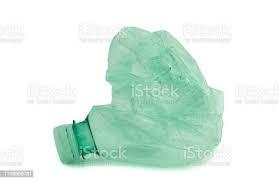plastic: (55, 29, 225, 168)
